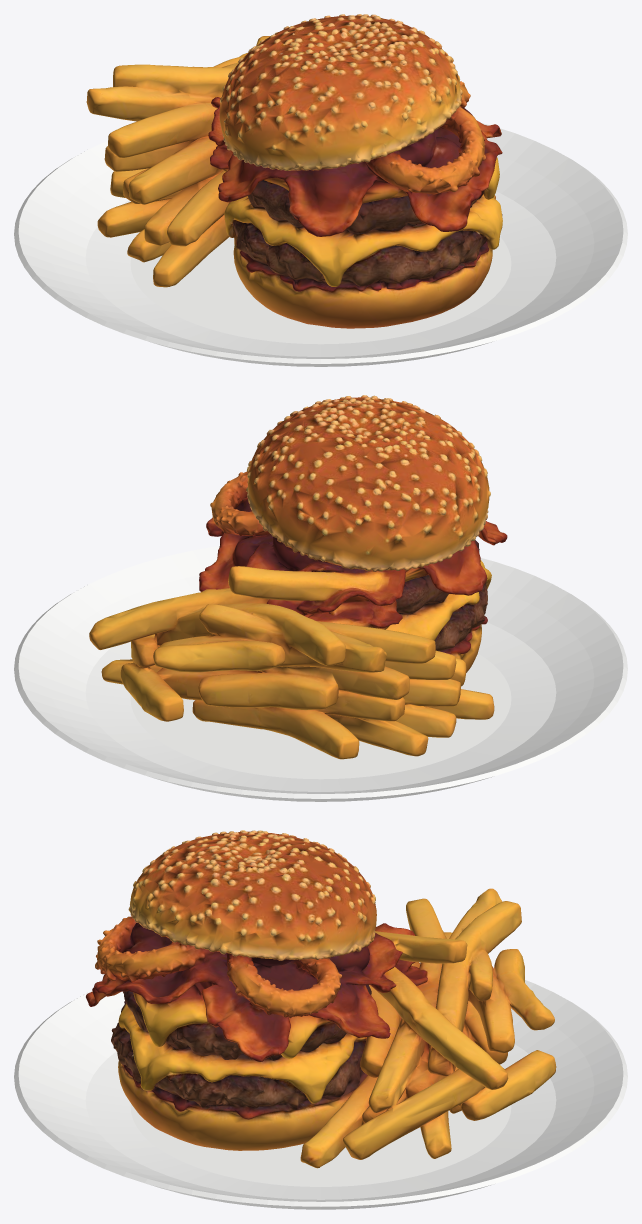
The model's file is hamburguesa_00.glb.
3 renders of one model, top to bottom at view 1: azimuth 30°, elevation 25°; view 2: azimuth 150°, elevation 25°; view 3: azimuth 270°, elevation 25°, orthographic.
Parts seen in each view (by area): view 1: comida, plato; view 2: comida, plato; view 3: comida, plato.
Part boxes in pixels (<box>): comida: <box>86,14,502,328</box>; plato: <box>14,123,627,366</box>; comida: <box>89,395,507,759</box>; plato: <box>14,546,627,801</box>; comida: <box>86,830,556,1168</box>; plato: <box>14,962,627,1209</box>.
Size of the model in its own units: 0.274 by 0.1313 by 0.274.
Materials: 2 (1 with a texture image).
